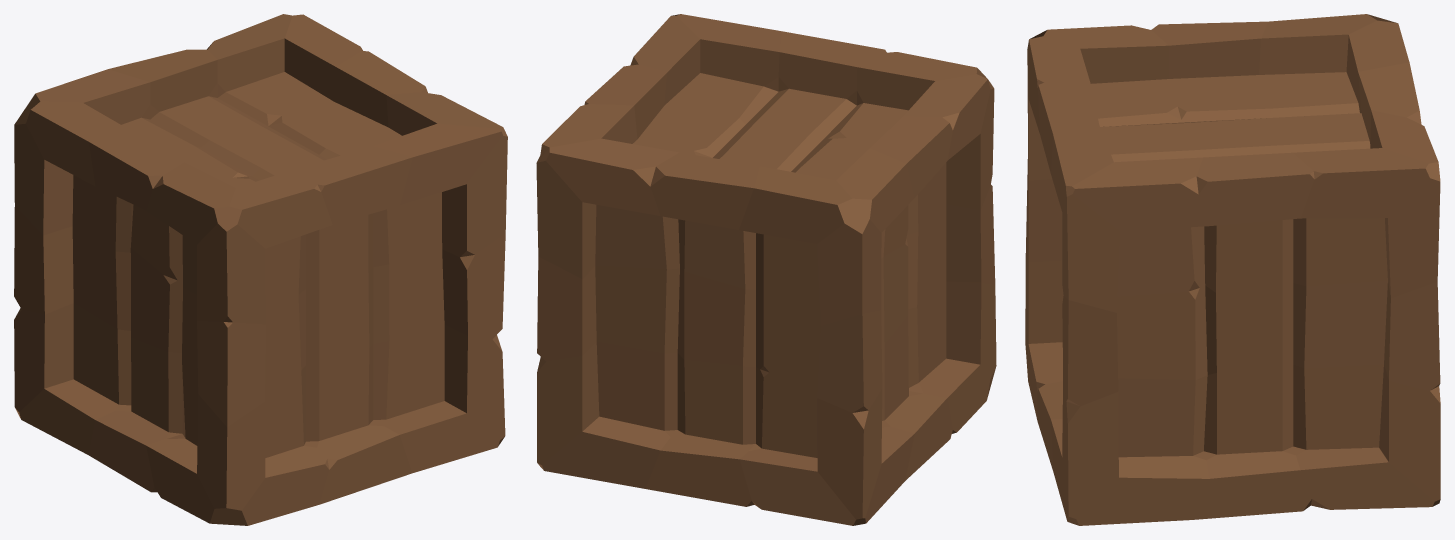
Rendered from crate.glb.
3 renders of one model, left to right at view 1: azimuth 30°, elevation 25°; view 2: azimuth 150°, elevation 25°; view 3: azimuth 270°, elevation 25°, orthographic. The views are drawn at different scales.
Visible parts, largest first — view 1: Crate.002; view 2: Crate.002; view 3: Crate.002.
Part boxes in pixels (x1=…): Crate.002: x1=14, y1=14, x2=507, y2=525; Crate.002: x1=536, y1=14, x2=996, y2=525; Crate.002: x1=1025, y1=14, x2=1440, y2=525.
Bounding box in the file's own units: 1.35 × 1.2 × 1.33.
